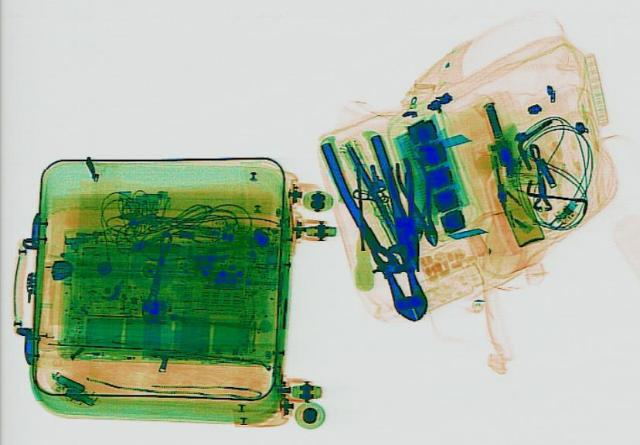Pliers: (316, 133, 449, 324), (368, 159, 434, 272), (389, 156, 453, 245)
